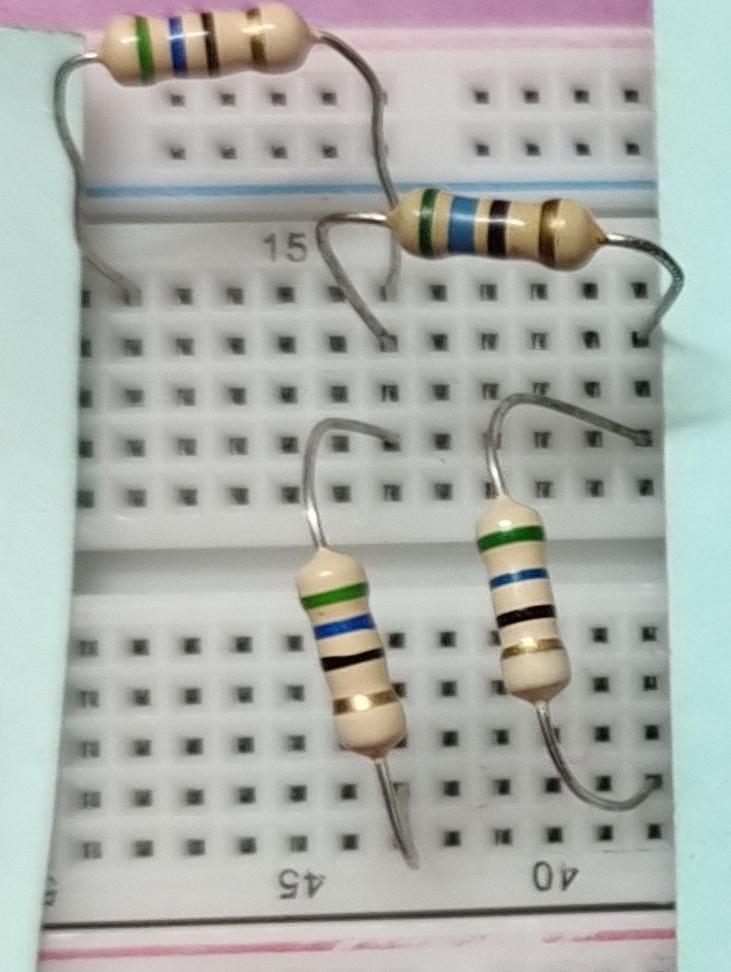resistor: (272, 540, 435, 782), (375, 155, 608, 295), (460, 488, 590, 708), (85, 0, 335, 112)
